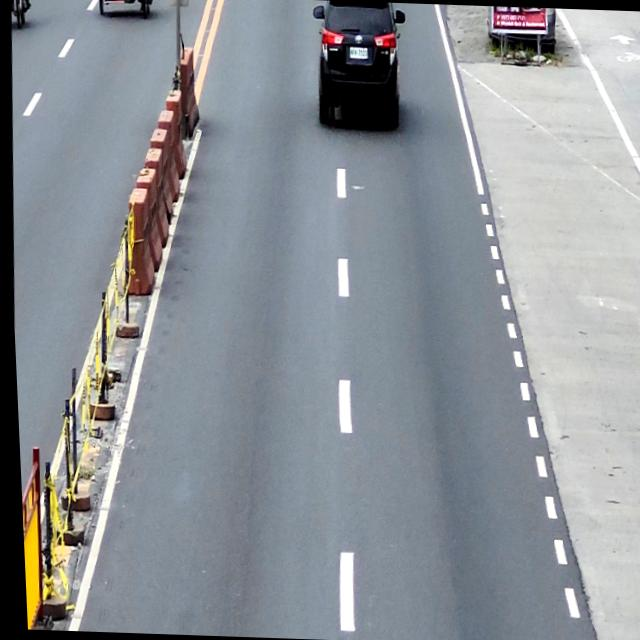Car: (308, 0, 409, 129)
License-Plate: (348, 46, 368, 59)
